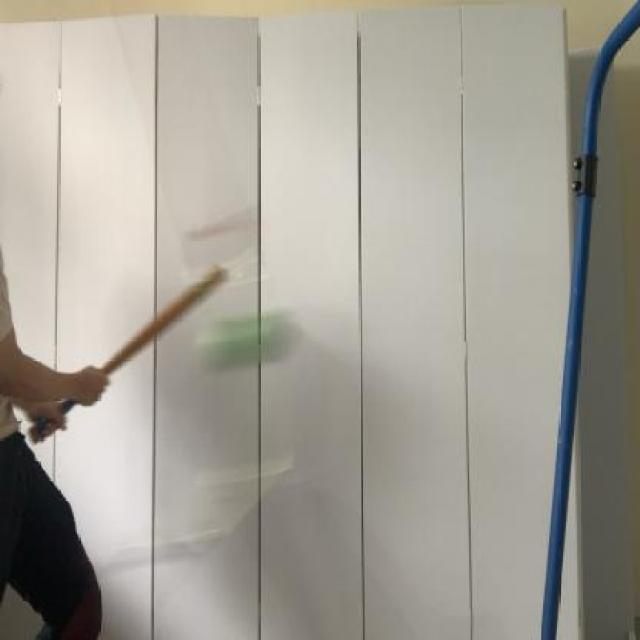baseball: (182, 308, 308, 394)
